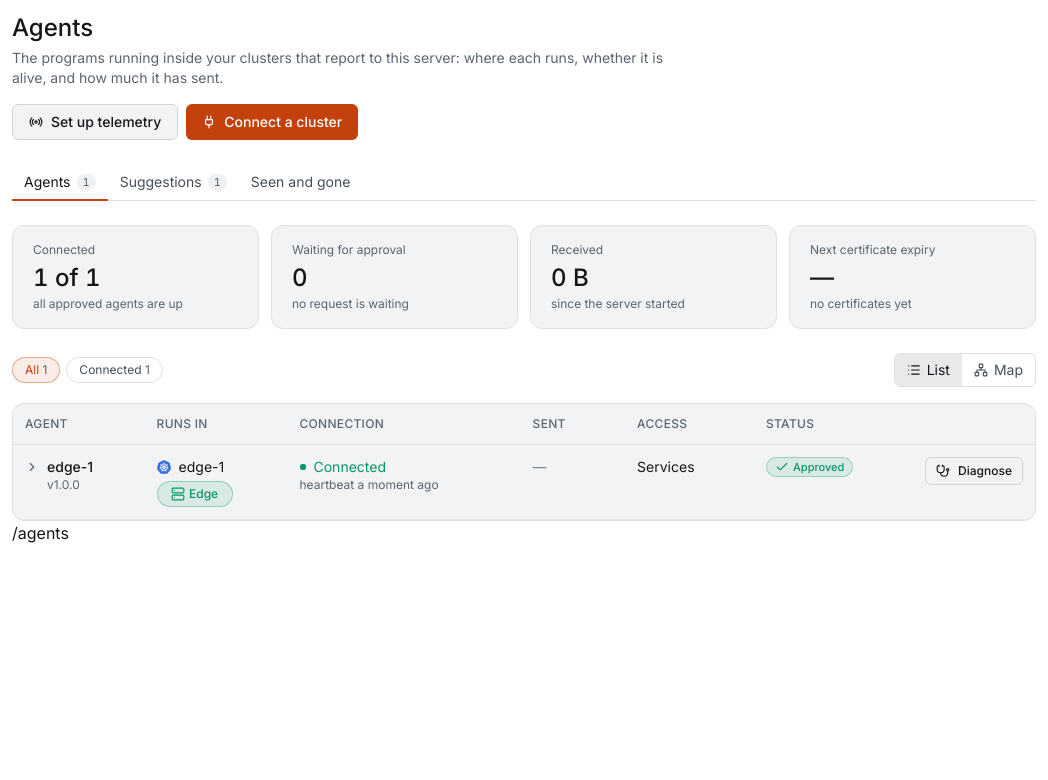
Agents: Discovery is a tab › the Suggestions tab carries the count and shows the inbox; Agents is the default
Step 1. Click the tab with test id "tab-suggestions" → {"x": 173, "y": 182}, box [108,164,239,200]
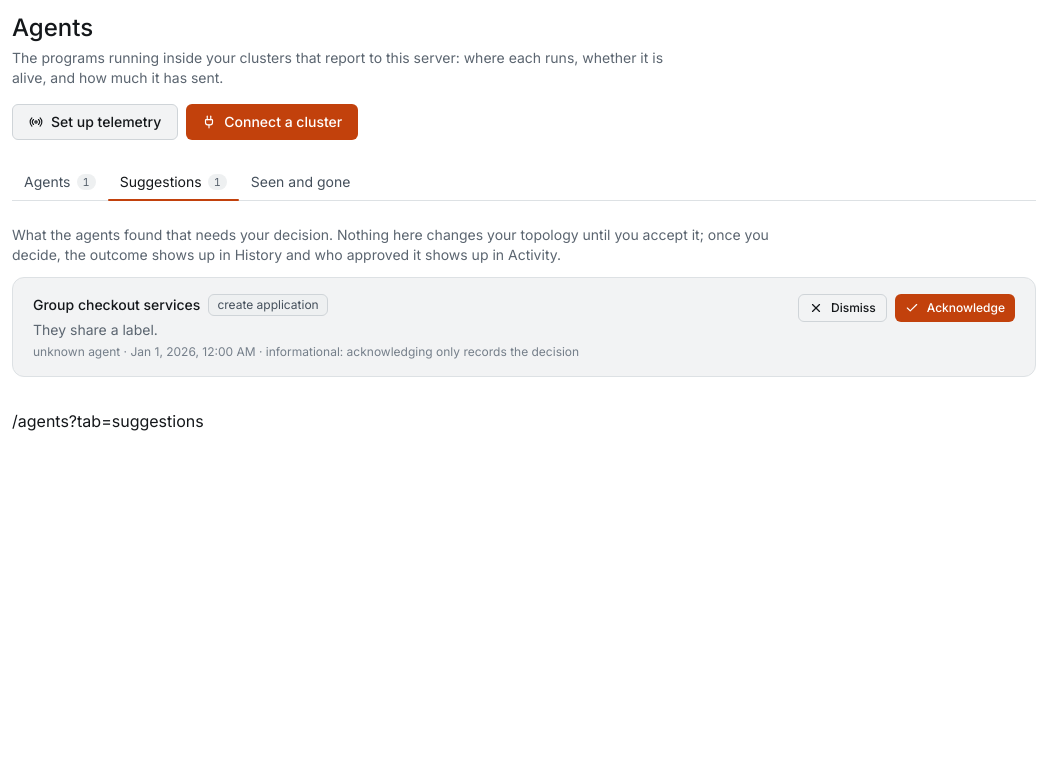
Now the text with test id "where" reads "/agents?tab=suggestions", box [12,411,204,431]
Now the text "Group checkout services" is shown, box [33,295,200,315]
